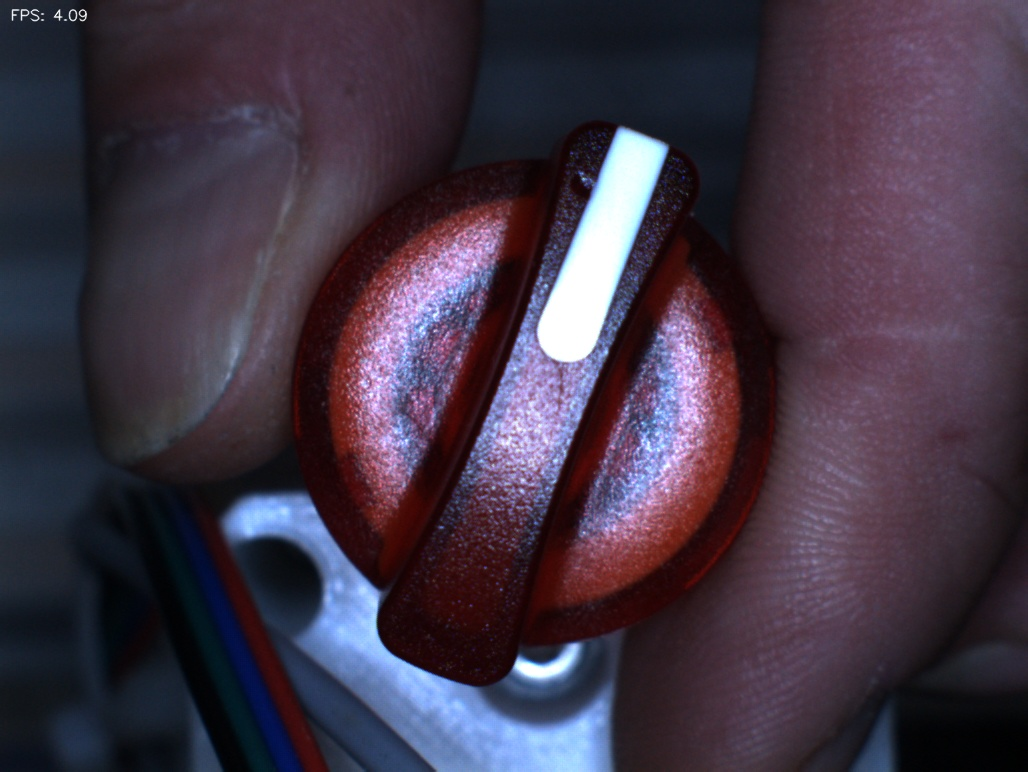Choc: (553, 145, 629, 221)
